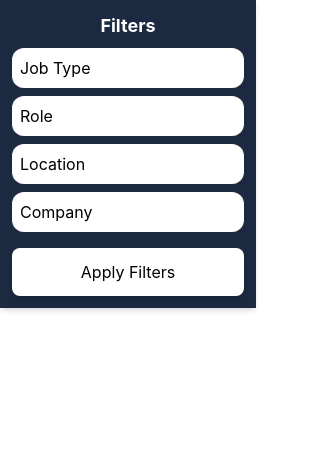
Test: SearchFilters Component › filters dropdown options when searching
Click the button "Job Type" at (128, 68), box x1=12 y1=48 x2=244 y2=88
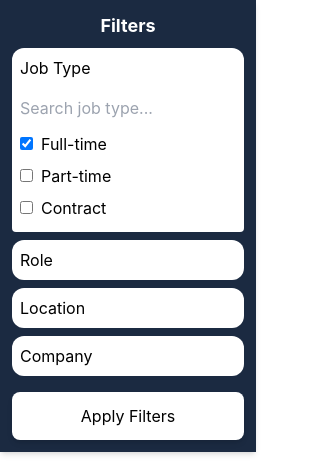
Type "Full" into the field with placeholder "Search job type..." at (128, 108), box x1=20 y1=96 x2=236 y2=120
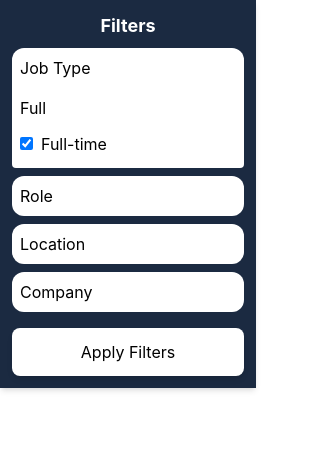
Check: the number of checkboxes is 1, box x1=20 y1=137 x2=33 y2=150
